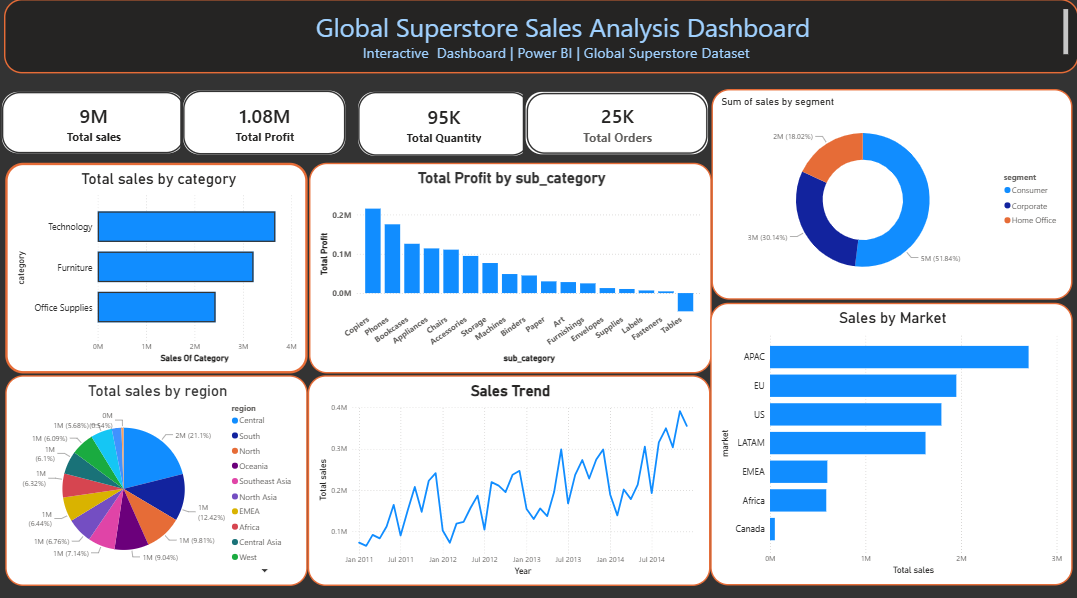

What the dashboard file says about the page in this screenshot:
{"tool":"powerbi","page":{"name":"Page 1","canvas":[1800,1000],"ordinal":0},"visuals":[{"type":"cardVisual","fields":{"Data":["SuperStoreOrders.Total sales"]},"box":[0,149.1,314.5,112.7],"z":0},{"type":"cardVisual","fields":{"Data":["SuperStoreOrders.Total Profit"]},"box":[301.8,147.3,280,116.4],"z":1},{"type":"cardVisual","fields":{"Data":["SuperStoreOrders.Total Quantity"]},"box":[594.5,149.1,296.4,116.4],"z":2},{"type":"cardVisual","fields":{"Data":["SuperStoreOrders.Total Orders"]},"box":[872.7,150.9,314.5,114.5],"z":3},{"type":"clusteredBarChart","fields":{"Category":["SuperStoreOrders.category"],"Y":["SuperStoreOrders.Total sales"]},"box":[10.9,272.7,503.6,350.9],"z":4},{"type":"clusteredColumnChart","fields":{"Category":["SuperStoreOrders.sub_category"],"Y":["SuperStoreOrders.Total Profit"]},"box":[516.4,272.7,670.9,350.9],"z":5},{"type":"pieChart","fields":{"Category":["SuperStoreOrders.region"],"Y":["SuperStoreOrders.Total sales"]},"box":[10.9,627.3,503.6,350.9],"z":6},{"type":"lineChart","title":"Sales Trend","fields":{"Y":["SuperStoreOrders.Total sales"],"Category":["SuperStoreOrders.order_date.Variation.Date Hierarchy.Year","SuperStoreOrders.order_date.Variation.Date Hierarchy.Quarter","SuperStoreOrders.order_date.Variation.Date Hierarchy.Month"]},"box":[514.5,627.3,670.9,350.9],"z":7},{"type":"clusteredBarChart","title":"Sales by Market","fields":{"Y":["SuperStoreOrders.Total sales"],"Category":["SuperStoreOrders.market"]},"box":[1185.5,507.3,603.6,470.9],"z":8},{"type":"textbox","box":[9.1,0,1790.9,123.6],"z":11},{"type":"donutChart","fields":{"Category":["SuperStoreOrders.segment"],"Y":["Sum(SuperStoreOrders.sales)"]},"box":[1187.3,149.1,601.8,350.9],"z":12}]}

Visuals, with their boxes in screenshot pixels (x1, y1, x2, y2), scaled from the page's 1800x1000 canvas onto the 1077x598 screenshot:
cardVisual - SuperStoreOrders.Total sales: x1=0, y1=89, x2=188, y2=157
cardVisual - SuperStoreOrders.Total Profit: x1=181, y1=88, x2=348, y2=158
cardVisual - SuperStoreOrders.Total Quantity: x1=356, y1=89, x2=533, y2=159
cardVisual - SuperStoreOrders.Total Orders: x1=522, y1=90, x2=710, y2=159
clusteredBarChart - SuperStoreOrders.category x SuperStoreOrders.Total sales: x1=7, y1=163, x2=308, y2=373
clusteredColumnChart - SuperStoreOrders.sub_category x SuperStoreOrders.Total Profit: x1=309, y1=163, x2=710, y2=373
pieChart - SuperStoreOrders.region x SuperStoreOrders.Total sales: x1=7, y1=375, x2=308, y2=585
"Sales Trend" lineChart: x1=308, y1=375, x2=709, y2=585
"Sales by Market" clusteredBarChart: x1=709, y1=303, x2=1070, y2=585
textbox: x1=5, y1=0, x2=1076, y2=74
donutChart - SuperStoreOrders.segment x Sum(SuperStoreOrders.sales): x1=710, y1=89, x2=1070, y2=299
